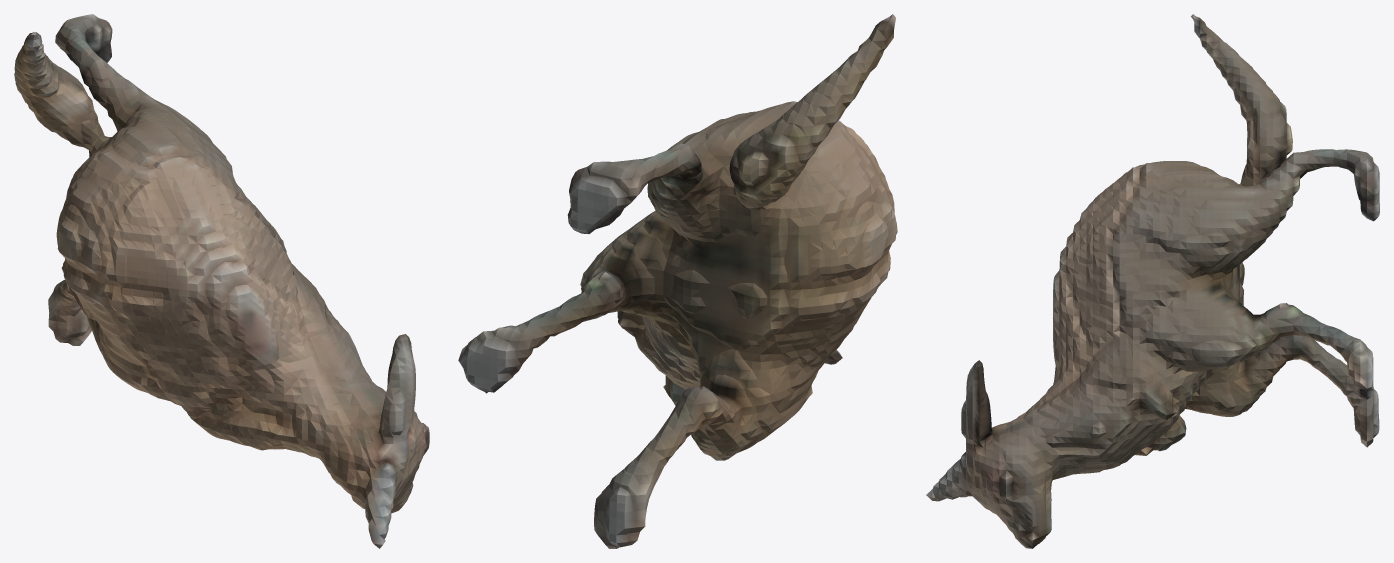
3 views of the same model, side by side, from view 1: azimuth 30°, elevation 25°; view 2: azimuth 150°, elevation 25°; view 3: azimuth 270°, elevation 25° (orthographic). The views are drawn at different scales.
Visible parts, largest first — view 1: world; view 2: world; view 3: world.
Part boxes in pixels (x1,y1,x2,y2): world: (14, 14, 429, 548); world: (458, 14, 897, 548); world: (926, 14, 1379, 548).
Size of the model in its own units: 0.6124 by 0.9483 by 0.93.
